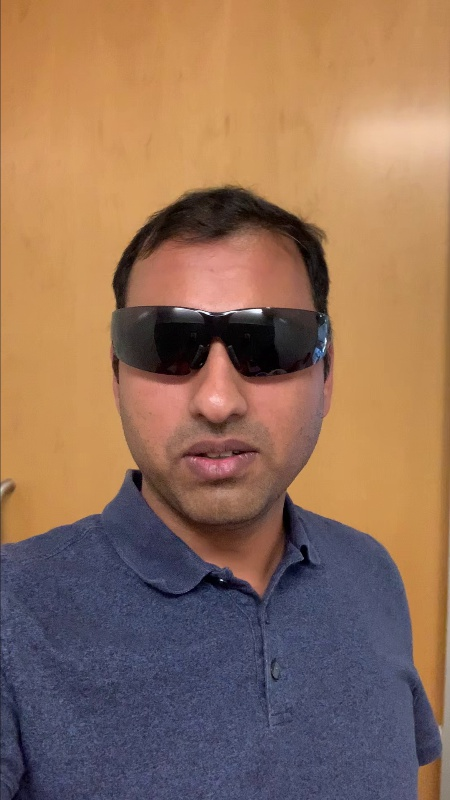glasses: (105, 302, 327, 378)
